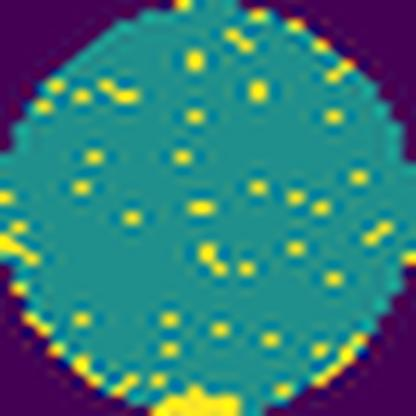Edge-Loc: (151, 380, 247, 416)
